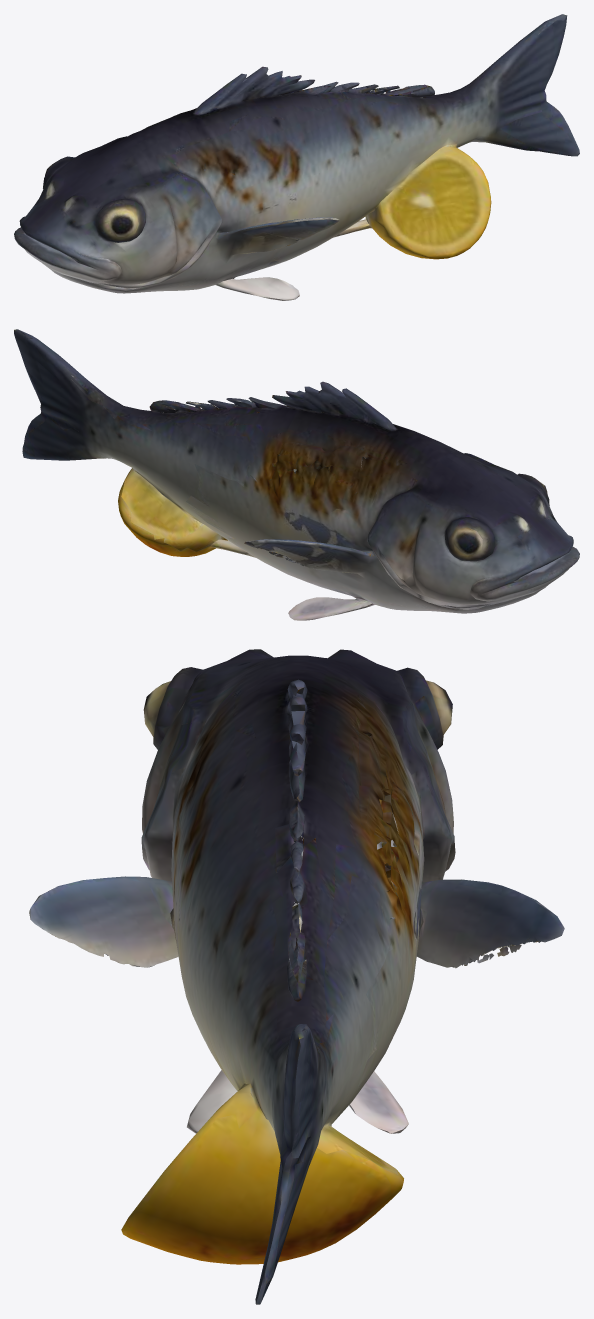
File: pescado.glb
3 views of the same model, one above another, from view 1: azimuth 30°, elevation 25°; view 2: azimuth 150°, elevation 25°; view 3: azimuth 270°, elevation 25° (orthographic). The views are drawn at different scales.
Visible parts, largest first — view 1: objeto; view 2: objeto; view 3: objeto.
Boxes of the visible parts, bbox=[...] form: objeto: bbox=[14, 14, 579, 300]; objeto: bbox=[14, 329, 579, 620]; objeto: bbox=[29, 649, 564, 1304].
Bounding box in the file's own units: 1.2 × 0.4504 × 0.5118.
Materials: 1 (1 with a texture image).
